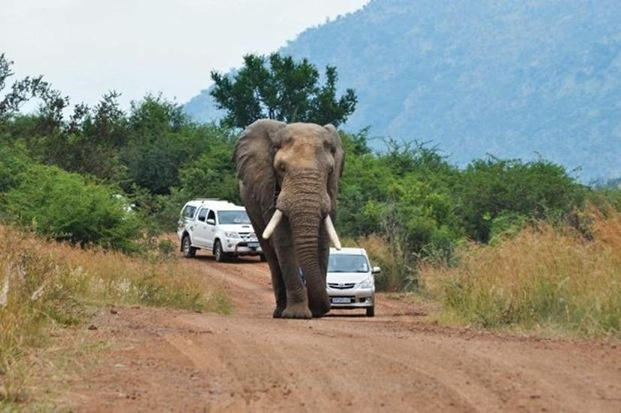elephant: (230, 116, 341, 317)
